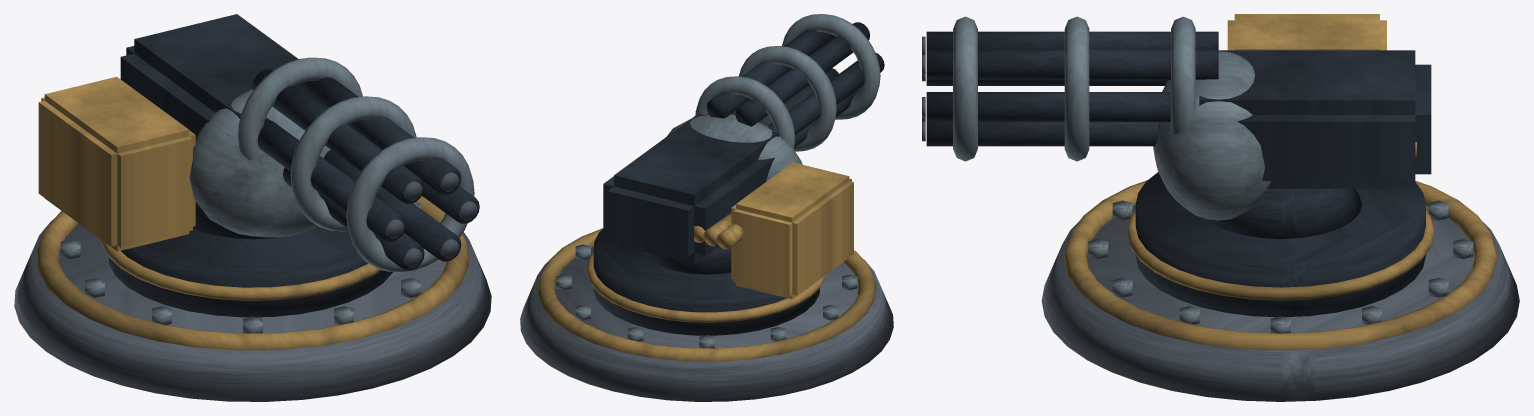
File: tower_gun_1.glb
3 views of the same model, side by side, from view 1: azimuth 30°, elevation 25°; view 2: azimuth 150°, elevation 25°; view 3: azimuth 270°, elevation 25° (orthographic). The views are drawn at different scales.
Parts seen in each view (by area): view 1: Weathered_granite, Forged_black_iron.001, Weathered_blue_steel.001, Antique_brass.001, Forged_black_iron, Antique_brass, Weathered_blue_steel, Eye_socket; view 2: Weathered_granite, Forged_black_iron.001, Antique_brass.001, Forged_black_iron, Weathered_blue_steel.001, Antique_brass, Weathered_blue_steel; view 3: Forged_black_iron.001, Weathered_granite, Forged_black_iron, Weathered_blue_steel.001, Antique_brass, Antique_brass.001, Weathered_blue_steel.
Boxes of the visible parts, box(x1,y1,x2,y2) form: Weathered_granite: box(14, 219, 491, 401); Forged_black_iron.001: box(120, 14, 479, 270); Weathered_blue_steel.001: box(189, 57, 474, 272); Antique_brass.001: box(38, 76, 195, 251); Forged_black_iron: box(108, 201, 392, 317); Antique_brass: box(36, 196, 469, 350); Weathered_blue_steel: box(60, 202, 420, 333); Eye_socket: box(385, 172, 477, 267); Weathered_granite: box(520, 247, 893, 401); Forged_black_iron.001: box(603, 22, 884, 263); Antique_brass.001: box(694, 162, 853, 299); Forged_black_iron: box(593, 229, 819, 335); Weathered_blue_steel.001: box(666, 14, 880, 181); Antique_brass: box(537, 228, 876, 361); Weathered_blue_steel: box(556, 244, 857, 348); Forged_black_iron.001: box(926, 31, 1431, 188); Weathered_granite: box(1041, 205, 1519, 401); Forged_black_iron: box(1135, 172, 1425, 317); Weathered_blue_steel.001: box(953, 16, 1270, 220); Antique_brass: box(1064, 180, 1497, 350); Antique_brass.001: box(1227, 14, 1416, 156); Weathered_blue_steel: box(1088, 200, 1473, 333).
Bounding box in the file's own units: 2.7 × 1.73 × 3.38.
5 materials, 4 textured.
